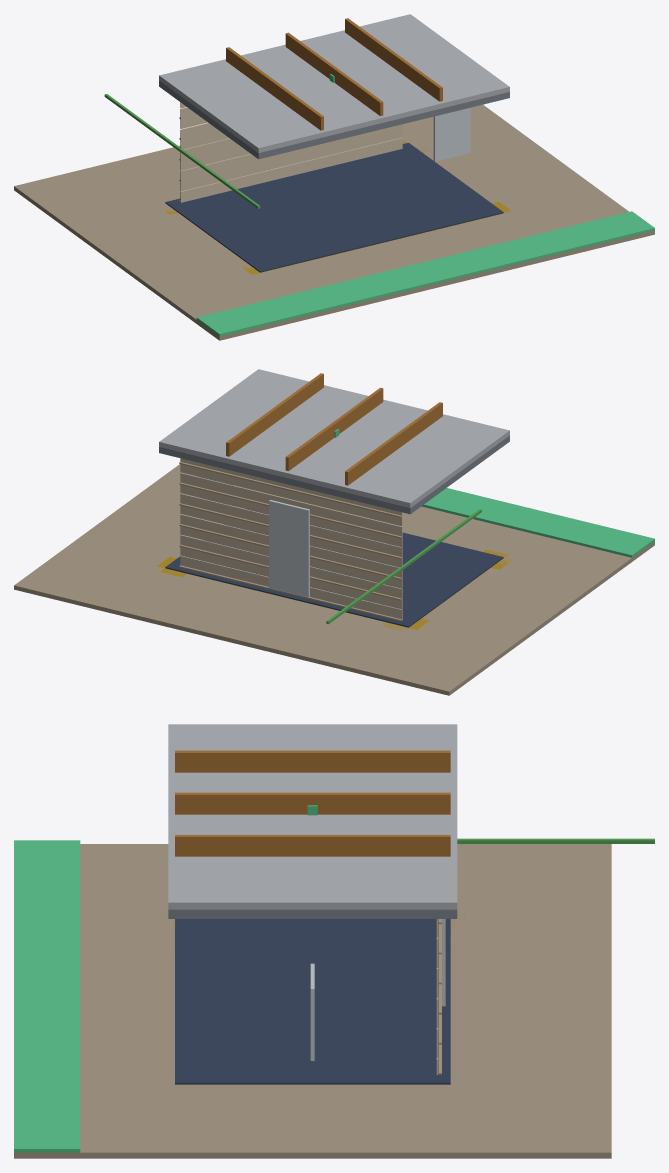
File: construction_master.glb
3 renders of one model, top to bottom at view 1: azimuth 30°, elevation 25°; view 2: azimuth 150°, elevation 25°; view 3: azimuth 270°, elevation 25°, orthographic. The views are drawn at different scales.
Parts seen in each view (by area): view 1: world; view 2: world; view 3: world.
Boxes of the visible parts, x1=… form: world: x1=14, y1=14, x2=654, y2=340; world: x1=14, y1=369, x2=654, y2=695; world: x1=14, y1=724, x2=654, y2=1158.
Bounding box in the file's own units: 11 × 4.2 × 9.65.
